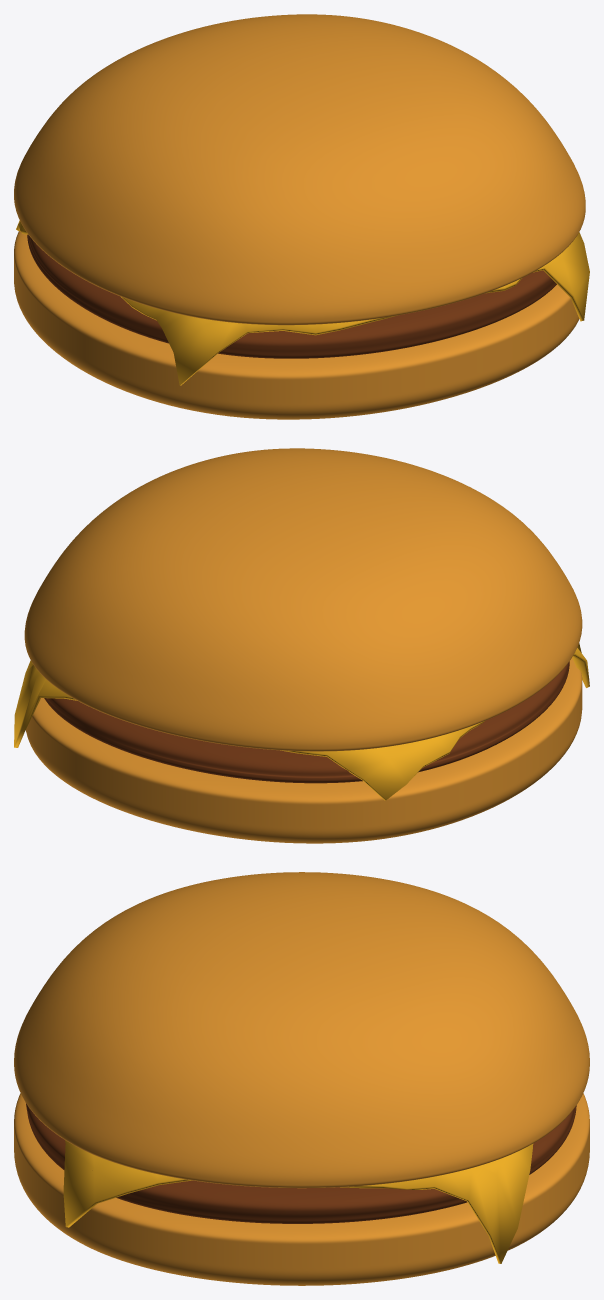
Rendered from Hamburger.glb.
3 renders of one model, top to bottom at view 1: azimuth 30°, elevation 25°; view 2: azimuth 150°, elevation 25°; view 3: azimuth 270°, elevation 25°, orthographic. The views are drawn at different scales.
Parts seen in each view (by area): view 1: Cube.002, Cube, Cube.001, Plane; view 2: Cube.002, Cube, Cube.001, Plane; view 3: Cube.002, Cube, Cube.001, Plane.
Boxes of the visible parts, <box> form: Cube.002: <box>14,14,585,325</box>; Cube: <box>14,231,579,419</box>; Cube.001: <box>27,234,556,358</box>; Plane: <box>16,220,589,385</box>; Cube.002: <box>24,448,582,751</box>; Cube: <box>26,658,582,843</box>; Cube.001: <box>44,661,569,783</box>; Plane: <box>14,643,589,800</box>; Cube.002: <box>14,872,589,1188</box>; Cube: <box>14,1093,589,1285</box>; Cube.001: <box>26,1103,576,1223</box>; Plane: <box>63,1140,533,1263</box>.
Bounding box in the file's own units: 9.17 × 4.77 × 9.17.
